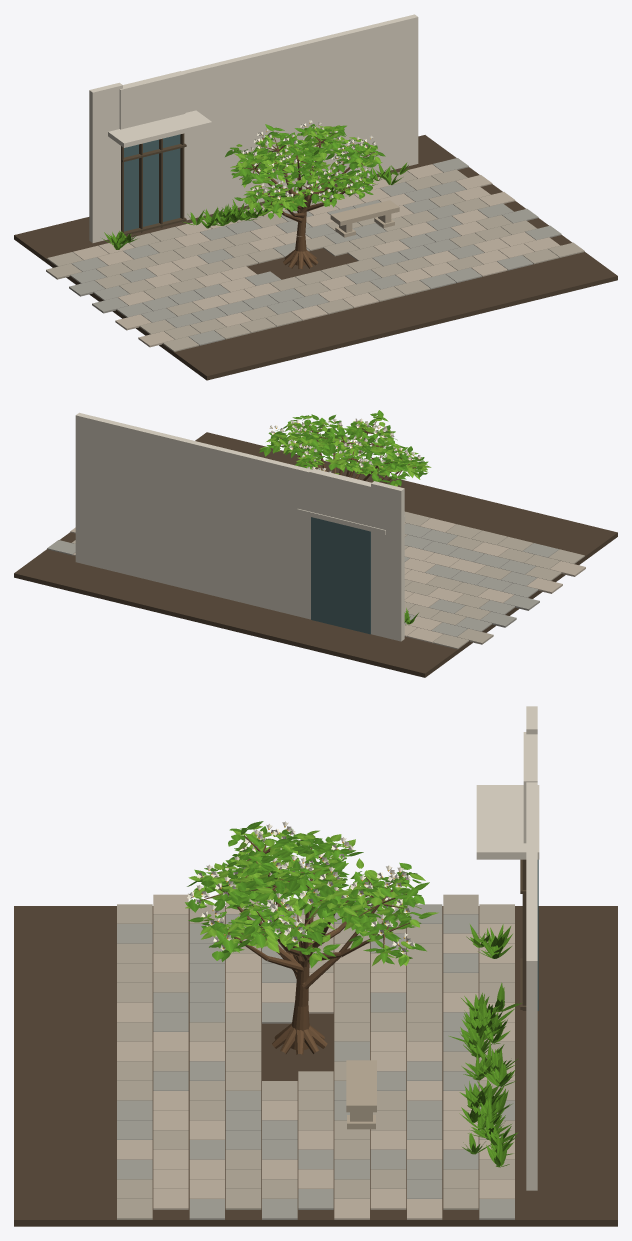
File: Grove.glb
The picture shows the model from 3 angles, top to bottom: view 1: azimuth 30°, elevation 25°; view 2: azimuth 150°, elevation 25°; view 3: azimuth 270°, elevation 25°; orthographic projection. The views are drawn at different scales.
Parts seen in each view (by area): view 1: Warm lime plaster, Planting soil, Limestone sand, Limestone warm grey, Limestone ivory, Blue green glazing, Young leaves, Deep foliage, Leaf surface, Sage planting, Fluted bark, Bronze window frames (+2 smaller); view 2: Warm lime plaster, Planting soil, Blue green glazing, Limestone warm grey, Limestone sand, Limestone ivory, Leaf surface, Young leaves, Deep foliage, Ivory corollas, Fluted bark; view 3: Planting soil, Limestone sand, Limestone ivory, Limestone warm grey, Warm lime plaster, Leaf surface, Young leaves, Deep foliage, Sage planting, Fluted bark, Ivory corollas, Honed sandstone (+1 smaller).
Part boxes in pixels (bbox=[...]): Warm lime plaster: bbox=[89, 14, 418, 242]; Planting soil: bbox=[14, 135, 617, 380]; Limestone sand: bbox=[46, 169, 584, 351]; Limestone warm grey: bbox=[69, 158, 561, 345]; Limestone ivory: bbox=[73, 164, 559, 347]; Blue green glazing: bbox=[124, 134, 180, 231]; Young leaves: bbox=[230, 125, 380, 217]; Deep foliage: bbox=[225, 124, 385, 213]; Leaf surface: bbox=[228, 124, 382, 219]; Sage planting: bbox=[102, 162, 409, 249]; Fluted bark: bbox=[237, 130, 374, 269]; Bronze window frames: bbox=[121, 133, 186, 235]; Warm lime plaster: bbox=[75, 412, 405, 641]; Planting soil: bbox=[14, 432, 617, 677]; Blue green glazing: bbox=[311, 517, 370, 634]; Limestone warm grey: bbox=[47, 523, 559, 636]; Limestone sand: bbox=[72, 511, 584, 649]; Limestone ivory: bbox=[70, 511, 585, 642]; Leaf surface: bbox=[263, 410, 428, 485]; Young leaves: bbox=[259, 415, 431, 486]; Deep foliage: bbox=[259, 414, 427, 485]; Ivory corollas: bbox=[269, 418, 421, 472]; Fluted bark: bbox=[272, 421, 416, 483]; Planting soil: bbox=[14, 906, 617, 1226]; Limestone sand: bbox=[117, 894, 514, 1219]; Limestone ivory: bbox=[117, 894, 514, 1219]; Limestone warm grey: bbox=[117, 898, 514, 1219]; Warm lime plaster: bbox=[476, 706, 539, 1190]; Leaf surface: bbox=[185, 828, 432, 968]; Young leaves: bbox=[185, 825, 438, 965]; Deep foliage: bbox=[187, 821, 426, 964]; Sage planting: bbox=[449, 924, 521, 1167]; Fluted bark: bbox=[200, 835, 410, 1054]; Ivory corollas: bbox=[187, 821, 418, 954]; Honed sandstone: bbox=[346, 1060, 376, 1129].
Size of the model in its own units: 16.49 by 5.8 by 13.
Materials: 15 (4 with a texture image).
